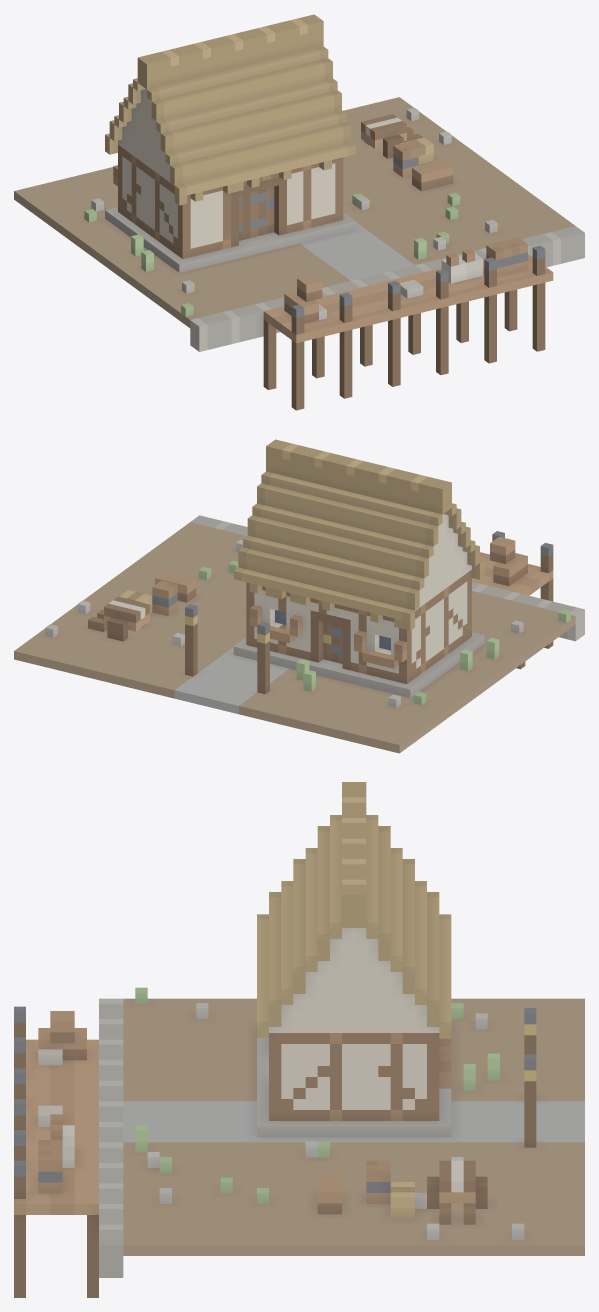
Rendered from trading_post.l1.glb.
3 renders of one model, top to bottom at view 1: azimuth 30°, elevation 25°; view 2: azimuth 150°, elevation 25°; view 3: azimuth 270°, elevation 25°, orthographic. The views are drawn at different scales.
Parts seen in each view (by area): view 1: trading_post; view 2: trading_post; view 3: trading_post.
Part boxes in pixels (box(x1,y1,x2,y2)): trading_post: box(14, 14, 584, 410); trading_post: box(14, 439, 584, 753); trading_post: box(14, 782, 584, 1297).
Size of the model in its own units: 6 by 3.88 by 5.88.
